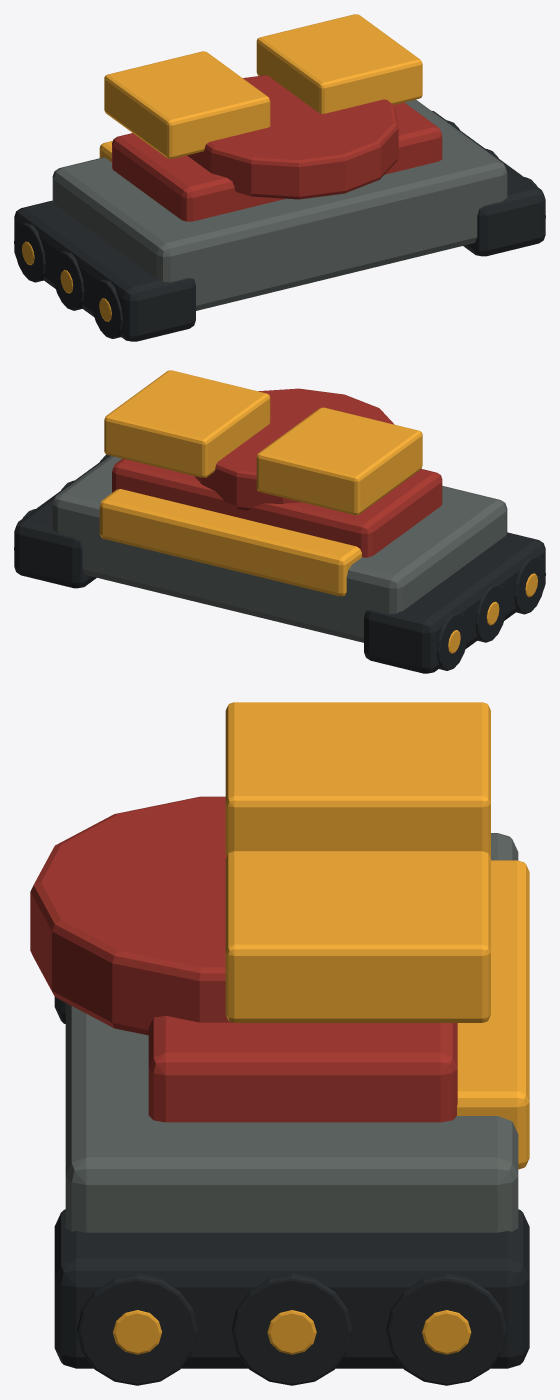
The model's file is SM_Soviet_SU_ZarevoMLRS.fbx.
3 views of the same model, one above another, from view 1: azimuth 30°, elevation 25°; view 2: azimuth 150°, elevation 25°; view 3: azimuth 270°, elevation 25° (orthographic). The views are drawn at different scales.
Parts seen in each view (by area): view 1: SM_Soviet_SU_ZarevoMLRS, SM_Soviet_SU_ZarevoMLRS_Turret, SM_Soviet_SU_ZarevoMLRS_RocketRack_-1, SM_Soviet_SU_ZarevoMLRS_RocketRack_+1, SM_Soviet_SU_ZarevoMLRS_Track_-1, SM_Soviet_SU_ZarevoMLRS_UpperHull, SM_Soviet_SU_ZarevoMLRS_Track_+1, SM_Soviet_SU_ZarevoMLRS_Wheel_00.001, SM_Soviet_SU_ZarevoMLRS_Wheel_01, SM_Soviet_SU_ZarevoMLRS_Wheel_00; view 2: SM_Soviet_SU_ZarevoMLRS, SM_Soviet_SU_ZarevoMLRS_Glacis, SM_Soviet_SU_ZarevoMLRS_RocketRack_-1, SM_Soviet_SU_ZarevoMLRS_RocketRack_+1, SM_Soviet_SU_ZarevoMLRS_UpperHull, SM_Soviet_SU_ZarevoMLRS_Track_-1, SM_Soviet_SU_ZarevoMLRS_Turret, SM_Soviet_SU_ZarevoMLRS_Track_+1, SM_Soviet_SU_ZarevoMLRS_Wheel_00, SM_Soviet_SU_ZarevoMLRS_Wheel_00.001, SM_Soviet_SU_ZarevoMLRS_Wheel_01; view 3: SM_Soviet_SU_ZarevoMLRS, SM_Soviet_SU_ZarevoMLRS_RocketRack_+1, SM_Soviet_SU_ZarevoMLRS_RocketRack_-1, SM_Soviet_SU_ZarevoMLRS_Turret, SM_Soviet_SU_ZarevoMLRS_Track_+1, SM_Soviet_SU_ZarevoMLRS_UpperHull, SM_Soviet_SU_ZarevoMLRS_Glacis, SM_Soviet_SU_ZarevoMLRS_Wheel_04.001, SM_Soviet_SU_ZarevoMLRS_Wheel_04, SM_Soviet_SU_ZarevoMLRS_Wheel_05, SM_Soviet_SU_ZarevoMLRS_Hub_04.001, SM_Soviet_SU_ZarevoMLRS_Hub_04 (+1 smaller).
Part boxes in pixels (x1=…): SM_Soviet_SU_ZarevoMLRS: x1=52, y1=99, x2=507, y2=310; SM_Soviet_SU_ZarevoMLRS_Turret: x1=187, y1=75, x2=398, y2=199; SM_Soviet_SU_ZarevoMLRS_RocketRack_-1: x1=104, y1=51, x2=270, y2=158; SM_Soviet_SU_ZarevoMLRS_RocketRack_+1: x1=256, y1=14, x2=422, y2=113; SM_Soviet_SU_ZarevoMLRS_Track_-1: x1=14, y1=200, x2=195, y2=341; SM_Soviet_SU_ZarevoMLRS_UpperHull: x1=112, y1=102, x2=442, y2=221; SM_Soviet_SU_ZarevoMLRS_Track_+1: x1=432, y1=111, x2=545, y2=256; SM_Soviet_SU_ZarevoMLRS_Wheel_00.001: x1=52, y1=251, x2=84, y2=310; SM_Soviet_SU_ZarevoMLRS_Wheel_01: x1=14, y1=223, x2=45, y2=282; SM_Soviet_SU_ZarevoMLRS_Wheel_00: x1=91, y1=279, x2=122, y2=338; SM_Soviet_SU_ZarevoMLRS: x1=52, y1=456, x2=507, y2=642; SM_Soviet_SU_ZarevoMLRS_Glacis: x1=99, y1=489, x2=361, y2=596; SM_Soviet_SU_ZarevoMLRS_RocketRack_-1: x1=256, y1=407, x2=422, y2=515; SM_Soviet_SU_ZarevoMLRS_RocketRack_+1: x1=104, y1=370, x2=270, y2=477; SM_Soviet_SU_ZarevoMLRS_UpperHull: x1=112, y1=458, x2=442, y2=557; SM_Soviet_SU_ZarevoMLRS_Track_-1: x1=364, y1=532, x2=545, y2=673; SM_Soviet_SU_ZarevoMLRS_Turret: x1=194, y1=388, x2=394, y2=510; SM_Soviet_SU_ZarevoMLRS_Track_+1: x1=14, y1=455, x2=110, y2=588; SM_Soviet_SU_ZarevoMLRS_Wheel_00: x1=514, y1=555, x2=545, y2=614; SM_Soviet_SU_ZarevoMLRS_Wheel_00.001: x1=475, y1=583, x2=507, y2=642; SM_Soviet_SU_ZarevoMLRS_Wheel_01: x1=437, y1=611, x2=468, y2=670; SM_Soviet_SU_ZarevoMLRS: x1=65, y1=833, x2=518, y2=1232; SM_Soviet_SU_ZarevoMLRS_RocketRack_+1: x1=225, y1=851, x2=490, y2=1022; SM_Soviet_SU_ZarevoMLRS_RocketRack_-1: x1=225, y1=702, x2=490, y2=858; SM_Soviet_SU_ZarevoMLRS_Turret: x1=30, y1=796, x2=232, y2=1035; SM_Soviet_SU_ZarevoMLRS_Track_+1: x1=54, y1=1209, x2=529, y2=1368; SM_Soviet_SU_ZarevoMLRS_UpperHull: x1=148, y1=1015, x2=457, y2=1122; SM_Soviet_SU_ZarevoMLRS_Glacis: x1=457, y1=860, x2=529, y2=1169; SM_Soviet_SU_ZarevoMLRS_Wheel_04.001: x1=231, y1=1273, x2=352, y2=1385; SM_Soviet_SU_ZarevoMLRS_Wheel_04: x1=77, y1=1273, x2=197, y2=1385; SM_Soviet_SU_ZarevoMLRS_Wheel_05: x1=386, y1=1273, x2=506, y2=1385; SM_Soviet_SU_ZarevoMLRS_Hub_04.001: x1=267, y1=1310, x2=316, y2=1354; SM_Soviet_SU_ZarevoMLRS_Hub_04: x1=112, y1=1310, x2=161, y2=1354.
Size of what is drawn, in the model's own units: 572 by 289 by 228.
